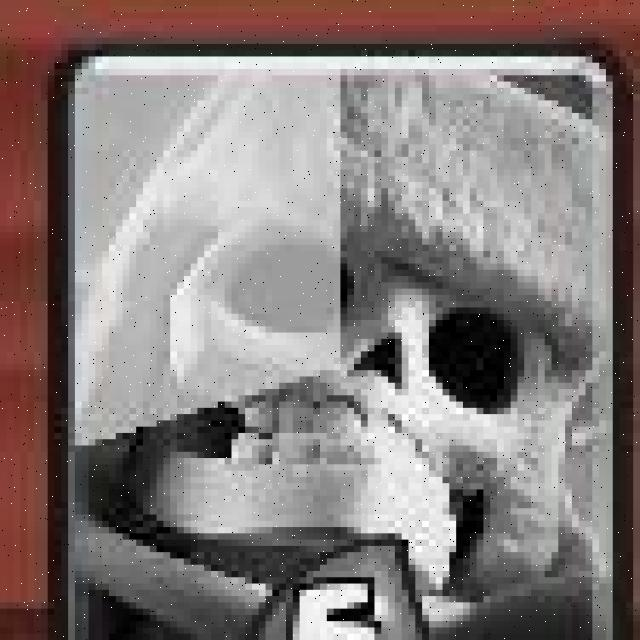Giant_Skeleton: (44, 42, 628, 640)
